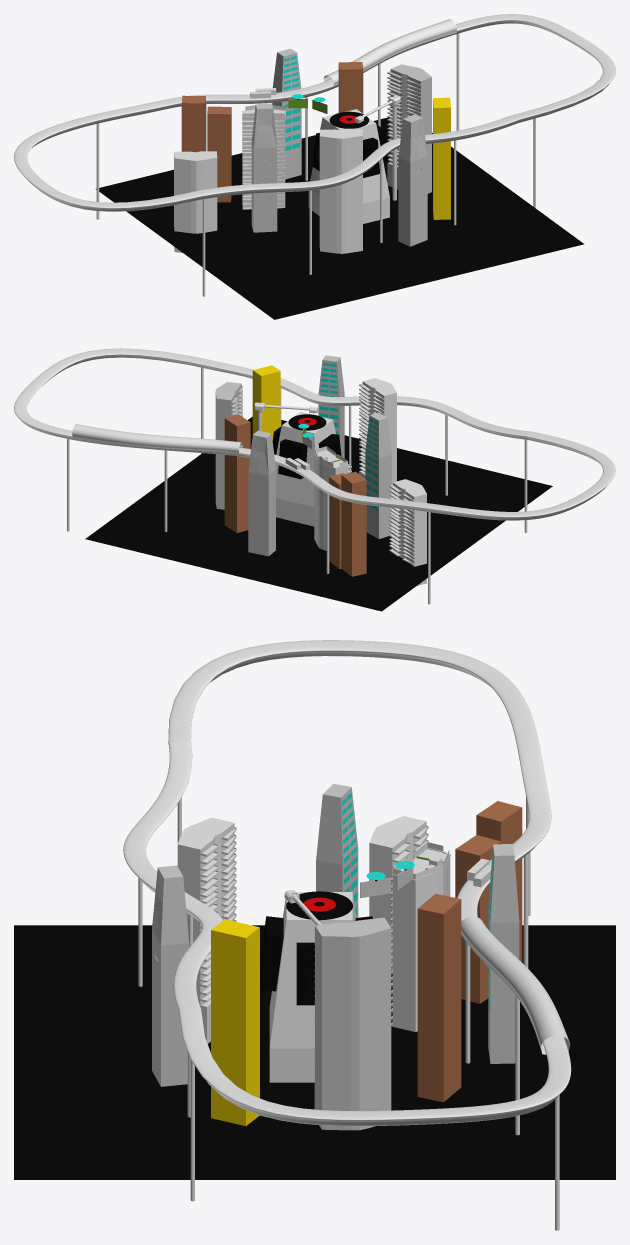
Rendered from Blocking_PJUMPER.fbx.
3 views of the same model, one above another, from view 1: azimuth 30°, elevation 25°; view 2: azimuth 150°, elevation 25°; view 3: azimuth 270°, elevation 25° (orthographic). The views are drawn at different scales.
Parts seen in each view (by area): view 1: Plane, NurbsPath, Cube.054, Cube.058, Cube.072, NurbsPath.001, Cube.070, Cube.057, Cube.059, Cube.056, Cube.064, Cube.071 (+6 smaller); view 2: Plane, NurbsPath, Cube.059, Cube.070, Cube.064, Cube.072, Cube.060, NurbsPath.001, Cube.073, NurbsPath.003, Cube.054, Cube.057 (+6 smaller); view 3: Plane, NurbsPath, Cube.057, Cube.060, Cube.056, Cube.058, Cube.064, Cube.054, NurbsPath.001, Cube.055, Cube.059, Cube.070 (+7 smaller).
Part boxes in pixels (left/top/right/bottom): Plane: left=96, top=117, right=584, bottom=319; NurbsPath: left=14, top=14, right=615, bottom=211; Cube.054: left=319, top=129, right=362, bottom=253; Cube.058: left=398, top=114, right=427, bottom=246; Cube.072: left=174, top=151, right=217, bottom=252; NurbsPath.001: left=197, top=115, right=518, bottom=199; Cube.070: left=251, top=103, right=277, bottom=232; Cube.057: left=387, top=64, right=431, bottom=193; Cube.059: left=272, top=48, right=301, bottom=179; Cube.056: left=433, top=97, right=450, bottom=219; Cube.064: left=308, top=109, right=389, bottom=223; Cube.071: left=207, top=106, right=231, bottom=202; Plane: left=85, top=416, right=552, bottom=611; NurbsPath: left=14, top=348, right=615, bottom=520; Cube.059: left=248, top=430, right=275, bottom=556; Cube.070: left=365, top=412, right=391, bottom=538; Cube.064: left=275, top=411, right=335, bottom=526; Cube.072: left=389, top=479, right=426, bottom=585; Cube.060: left=224, top=414, right=250, bottom=532; NurbsPath.001: left=220, top=363, right=530, bottom=439; Cube.073: left=341, top=471, right=366, bottom=576; NurbsPath.003: left=72, top=424, right=242, bottom=453; Cube.054: left=359, top=378, right=396, bottom=489; Cube.057: left=215, top=382, right=242, bottom=509; Plane: left=14, top=925, right=615, bottom=1179; NurbsPath: left=168, top=640, right=571, bottom=1126; Cube.057: left=314, top=917, right=391, bottom=1130; Cube.060: left=417, top=893, right=461, bottom=1102; Cube.056: left=211, top=919, right=259, bottom=1125; Cube.058: left=152, top=865, right=189, bottom=1086; Cube.064: left=269, top=892, right=356, bottom=1082; Cube.054: left=177, top=817, right=236, bottom=1043; NurbsPath.001: left=123, top=742, right=222, bottom=1010; Cube.055: left=390, top=849, right=450, bottom=1031; Cube.059: left=488, top=844, right=519, bottom=1063; Cube.070: left=316, top=783, right=358, bottom=917.
Size of the model in its own units: 49366 by 11808 by 26814.
